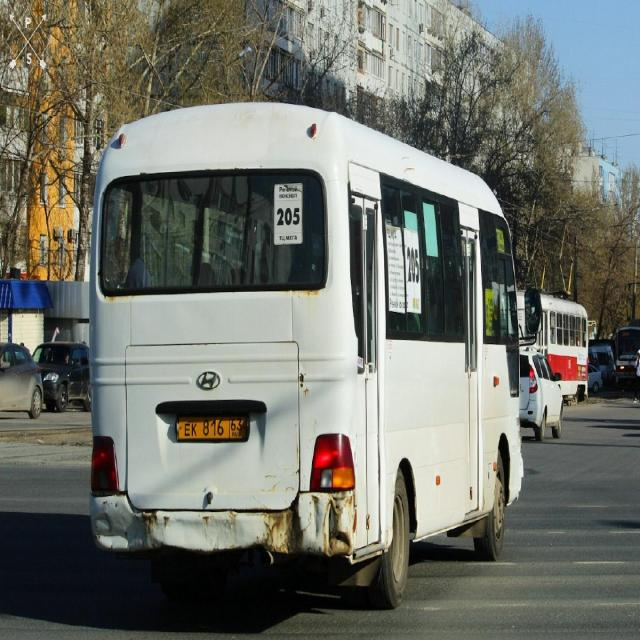number-of-bus: (276, 202, 302, 230), (407, 246, 422, 285)
